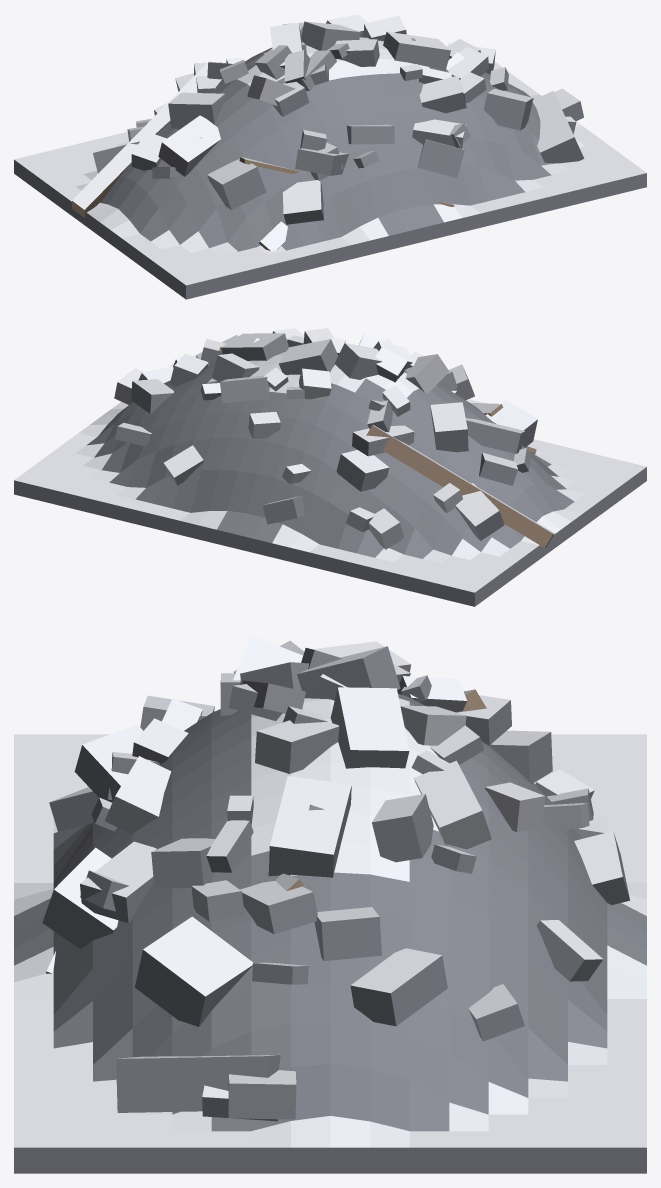
Rendered from PR_Escombros_Monte_B.fbx.
3 renders of one model, top to bottom at view 1: azimuth 30°, elevation 25°; view 2: azimuth 150°, elevation 25°; view 3: azimuth 270°, elevation 25°, orthographic. The views are drawn at different scales.
Visible parts, largest first — view 1: PR_Escombros_Monte_B; view 2: PR_Escombros_Monte_B; view 3: PR_Escombros_Monte_B.
Part boxes in pixels (bbox=[...]): PR_Escombros_Monte_B: bbox=[14, 14, 646, 299]; PR_Escombros_Monte_B: bbox=[14, 328, 646, 606]; PR_Escombros_Monte_B: bbox=[14, 635, 646, 1173].
Size of the model in its own units: 10.43 by 3.32 by 6.6.
